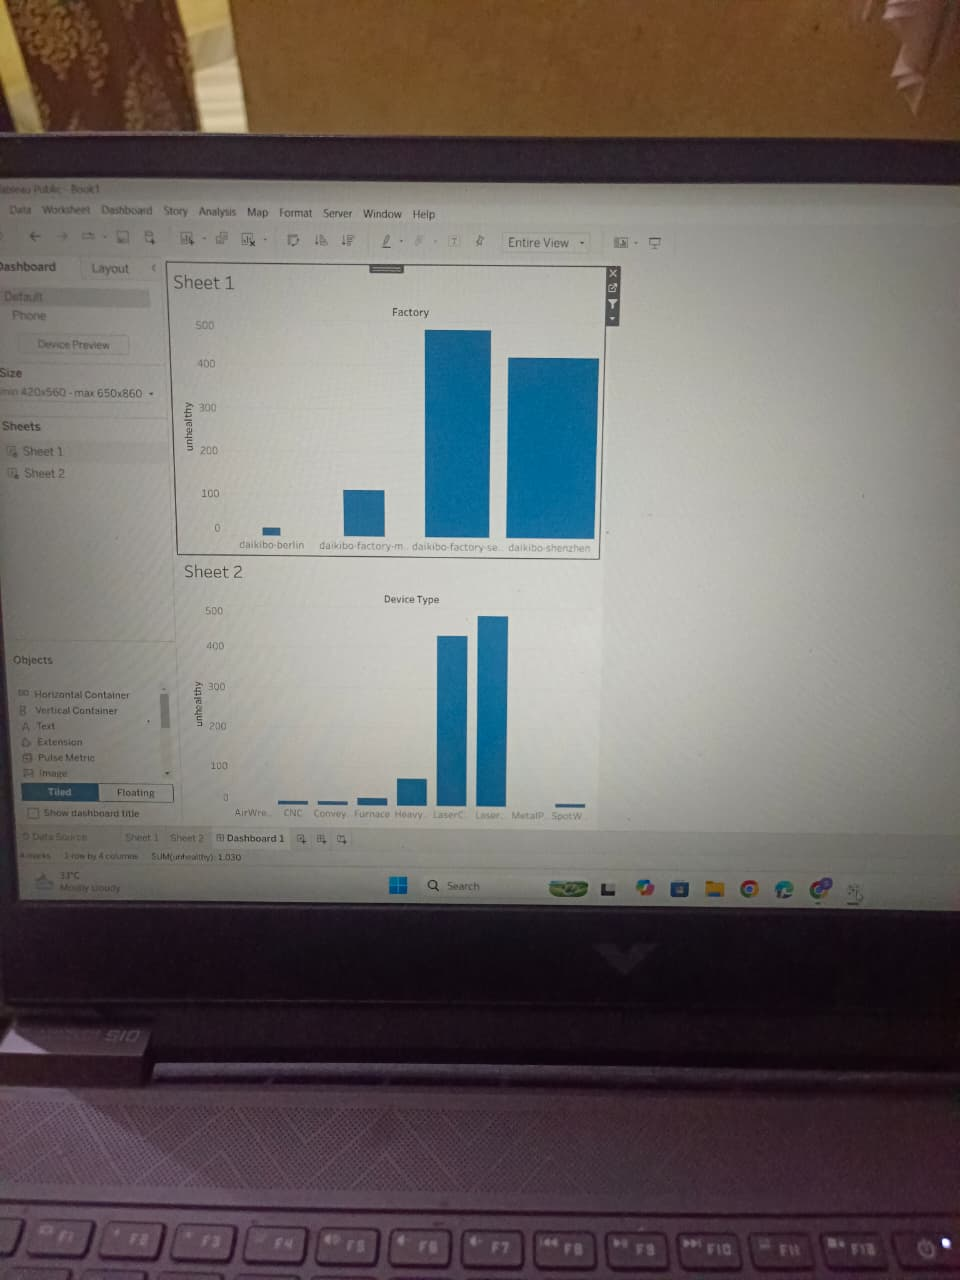

Layout of this report page (visuals, bound fields, positions):
{"tool":"tableau","page":{"name":"Dashboard 1","canvas":[650,860],"ordinal":0},"visuals":[{"type":"worksheet","title":"Sheet 1","mark":"Automatic","rows":["Calculation_0198480422719488"],"cols":["factory"],"box":[8,8.1,634,421.9]},{"type":"worksheet","title":"Sheet 2","mark":"Automatic","rows":["Calculation_0198480422719488"],"cols":["deviceType"],"box":[8,430,634,421.9]}]}

Visuals, with their boxes on the page's 650x860 design canvas (x1, y1, x2, y2). These are canvas units, not pixel positions in the 960x1280 screenshot, which may show the page scaled, cropped or inside an application window:
"Sheet 1" worksheet: l=8, t=8, r=642, b=430
"Sheet 2" worksheet: l=8, t=430, r=642, b=852
